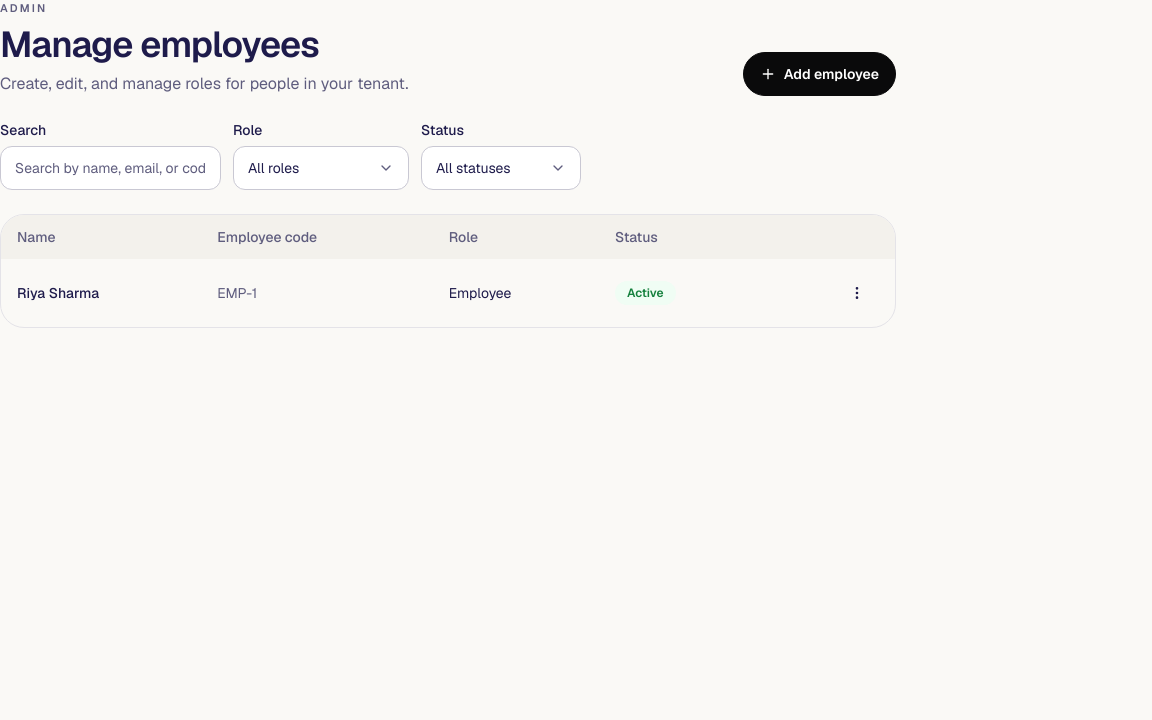
it: UsersPage (tenant admin employee management) › permanent deletion › requires typing the name, and only then deletes
Click the button named "actions for riya sharma": [857, 293] box x1=835 y1=271 x2=879 y2=315
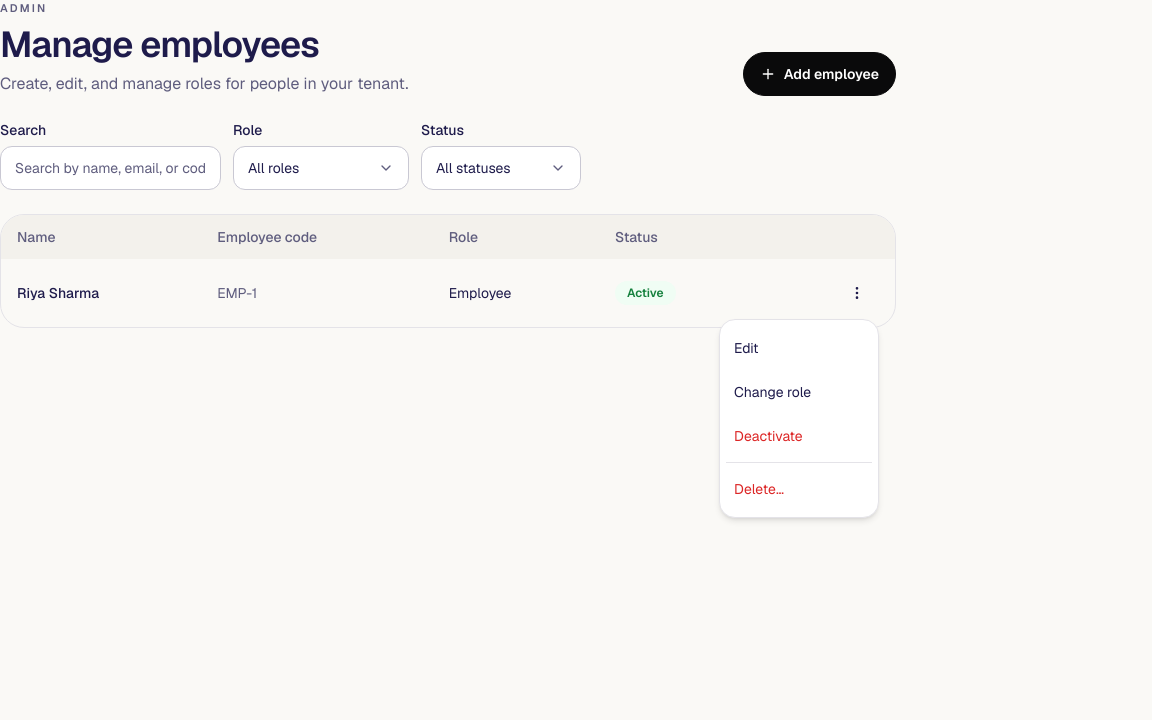
Click the menu item "Delete…": [759, 489] box x1=734 y1=480 x2=784 y2=498
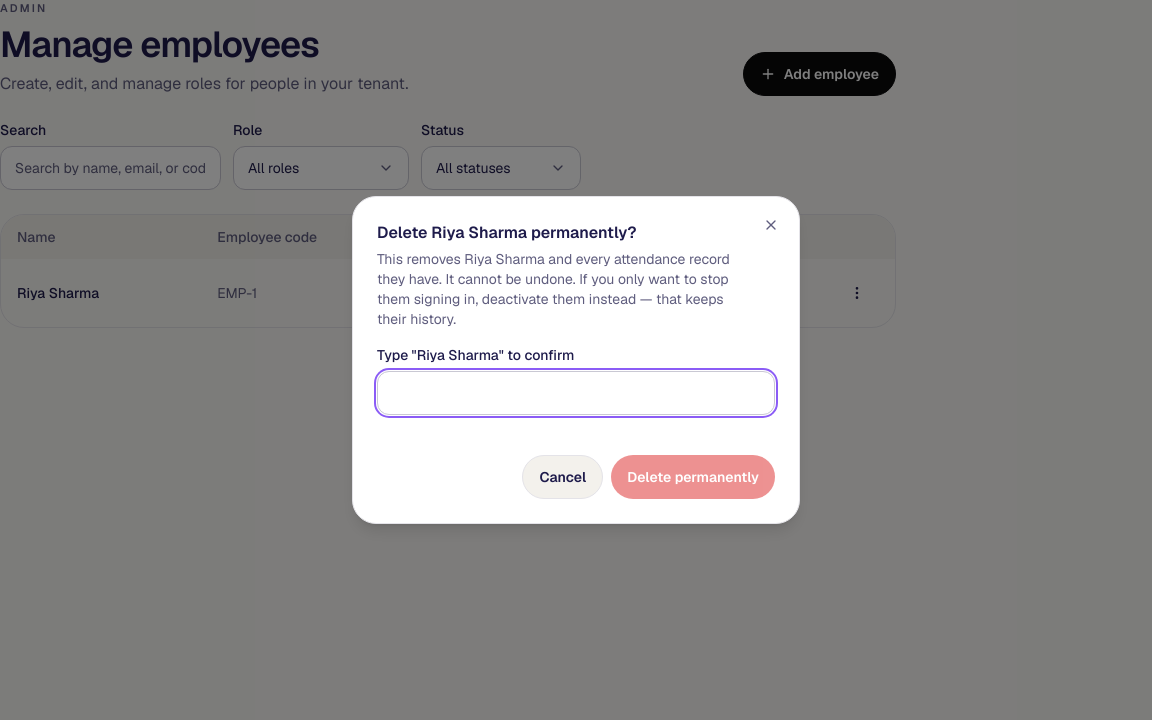
expect the heading "Delete Riya Sharma permanently?" is shown: met, box x1=377 y1=222 x2=637 y2=243
expect the text "cannot be undone" is shown: met, box x1=377 y1=250 x2=730 y2=328
expect the button "Delete permanently" is disabled: met, box x1=611 y1=455 x2=775 y2=499
In the field labelled "Type \"Riya Sharma\" to confirm": [576, 393] box x1=377 y1=371 x2=775 y2=415, type "riya"
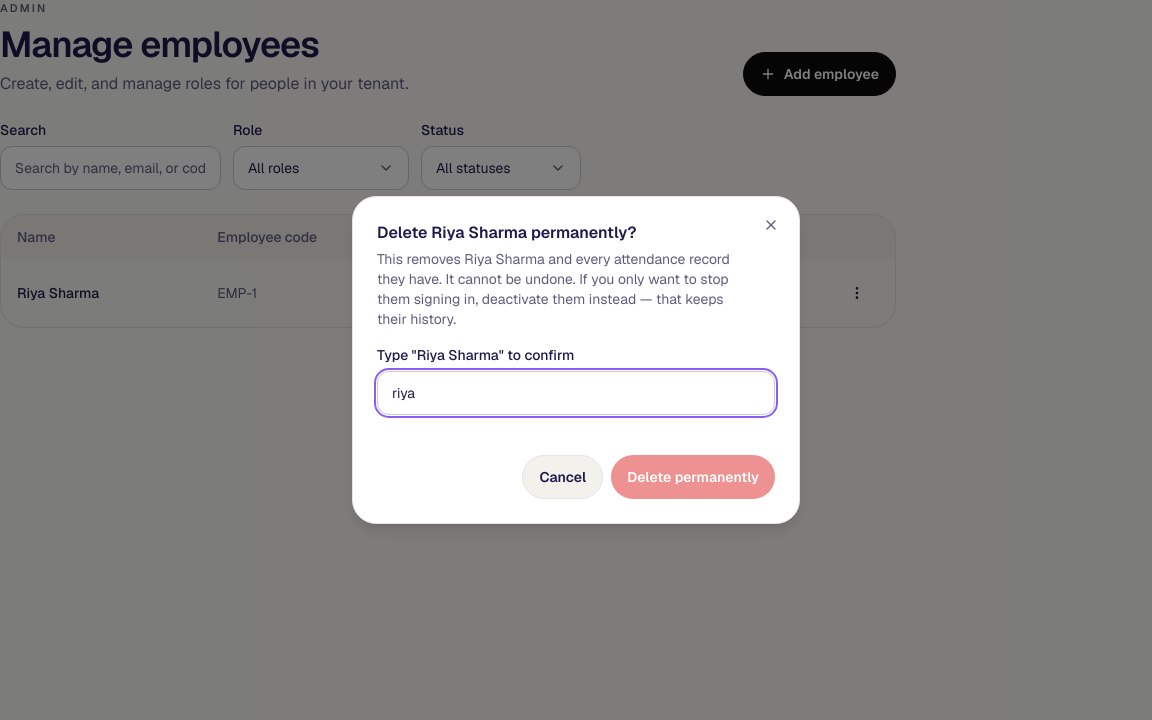
expect the button "Delete permanently" is disabled: met, box x1=611 y1=455 x2=775 y2=499
Replace the text in the field labelled "Type \"Riya Sharma\" to confirm" with "Riya Sharma": [576, 393] box x1=377 y1=371 x2=775 y2=415
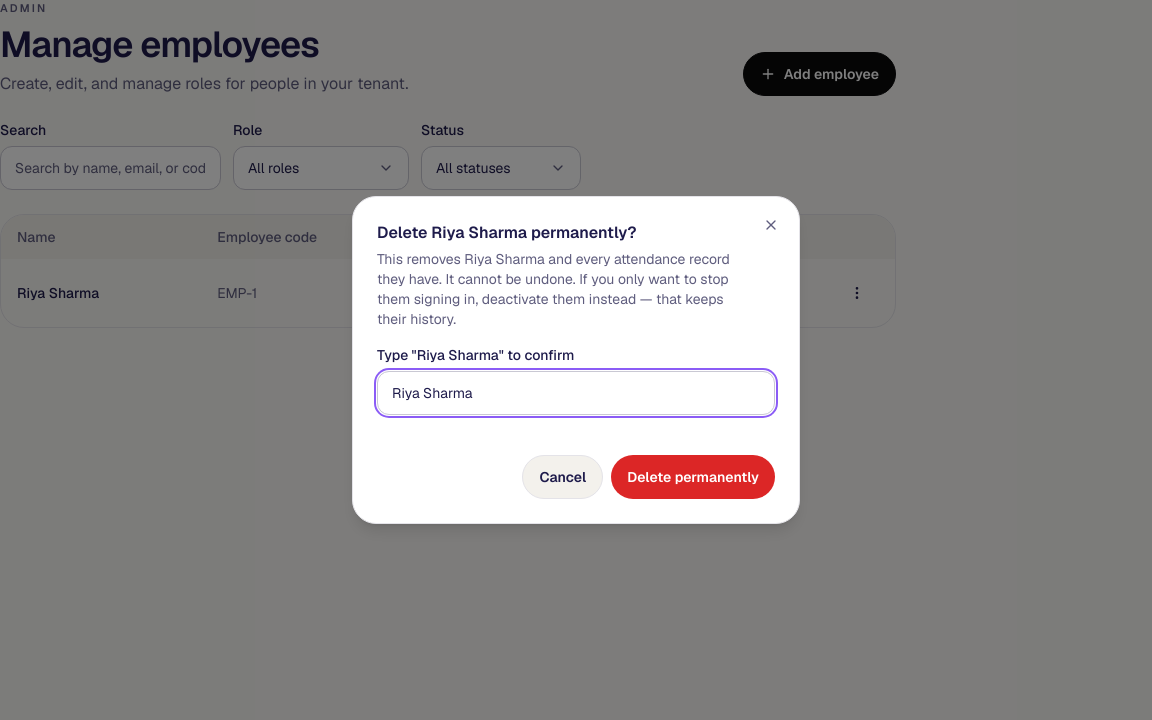
expect the button "Delete permanently" is enabled: met
Click the button "Delete permanently": [693, 477] box x1=611 y1=455 x2=775 y2=499
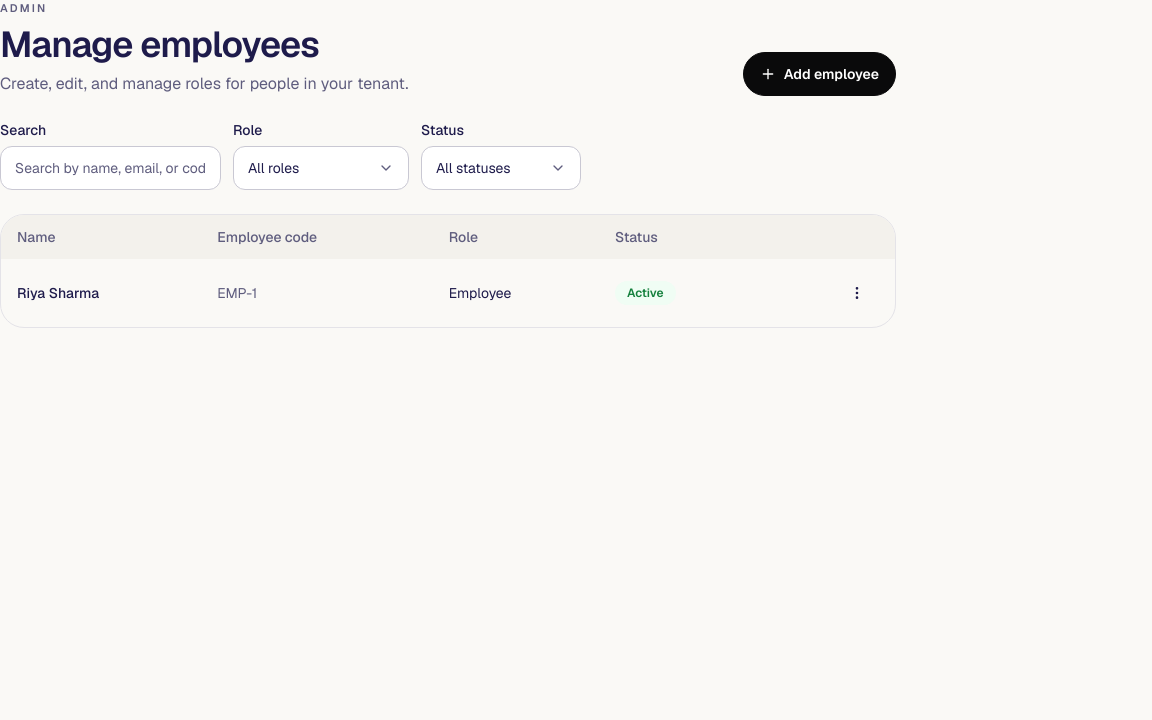
expect the heading "Delete Riya Sharma permanently" is gone: met
